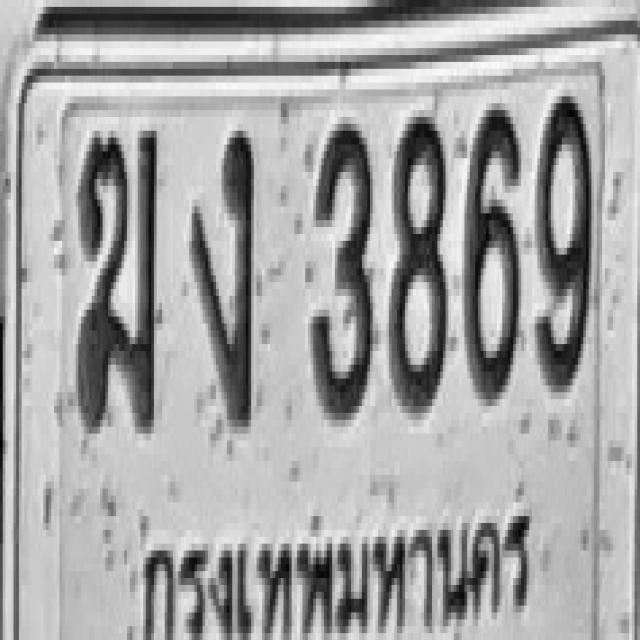15KhorRaKhang: (76, 124, 159, 433)
16NgorNgu: (189, 124, 254, 427)
3: (309, 117, 374, 420)
6: (465, 103, 521, 399)
8: (390, 110, 447, 413)
9: (536, 90, 593, 392)
Bangkok: (127, 495, 529, 640)
